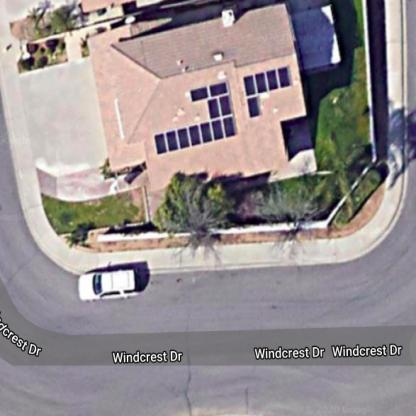car: (74, 263, 147, 305)
solar_panel: (145, 78, 240, 156), (232, 61, 294, 119)
